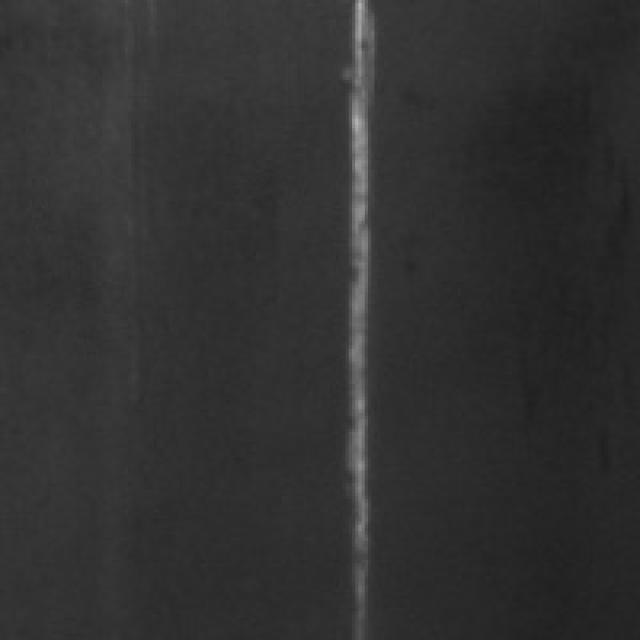scratches: (333, 0, 390, 634)
